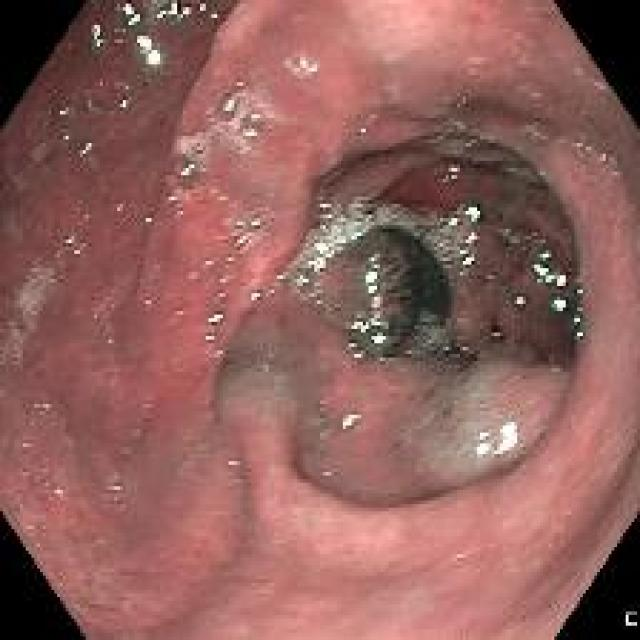bubbles: (285, 186, 478, 369), (421, 354, 510, 478), (201, 72, 274, 150), (13, 264, 61, 322), (572, 135, 622, 180), (171, 121, 218, 164), (227, 211, 272, 253), (526, 121, 568, 151), (3, 321, 29, 369), (172, 156, 201, 195), (216, 85, 242, 121), (241, 113, 266, 147), (100, 474, 123, 510), (188, 140, 208, 164), (308, 289, 327, 310), (347, 340, 367, 359), (202, 105, 219, 126), (213, 286, 228, 301), (538, 167, 551, 183), (119, 446, 130, 460)
specularity: (474, 420, 522, 463), (154, 0, 221, 28), (530, 246, 567, 294), (346, 315, 390, 347), (361, 258, 386, 309), (308, 237, 341, 275), (133, 34, 164, 69), (455, 231, 480, 271), (58, 233, 84, 261), (118, 4, 142, 28), (571, 306, 586, 344), (87, 23, 108, 50), (201, 307, 226, 329), (550, 294, 570, 319), (341, 410, 363, 430), (463, 202, 481, 224), (114, 96, 130, 116), (445, 211, 461, 230), (56, 101, 71, 121), (80, 137, 96, 155), (198, 330, 216, 346), (141, 216, 156, 233), (444, 163, 461, 178), (241, 125, 256, 141), (114, 199, 125, 217), (223, 96, 236, 111), (510, 296, 526, 308), (61, 129, 72, 143), (209, 352, 224, 362), (249, 290, 261, 302), (181, 164, 192, 175), (350, 230, 362, 240), (337, 233, 347, 245), (359, 125, 369, 136), (98, 79, 104, 87), (364, 216, 374, 220)
